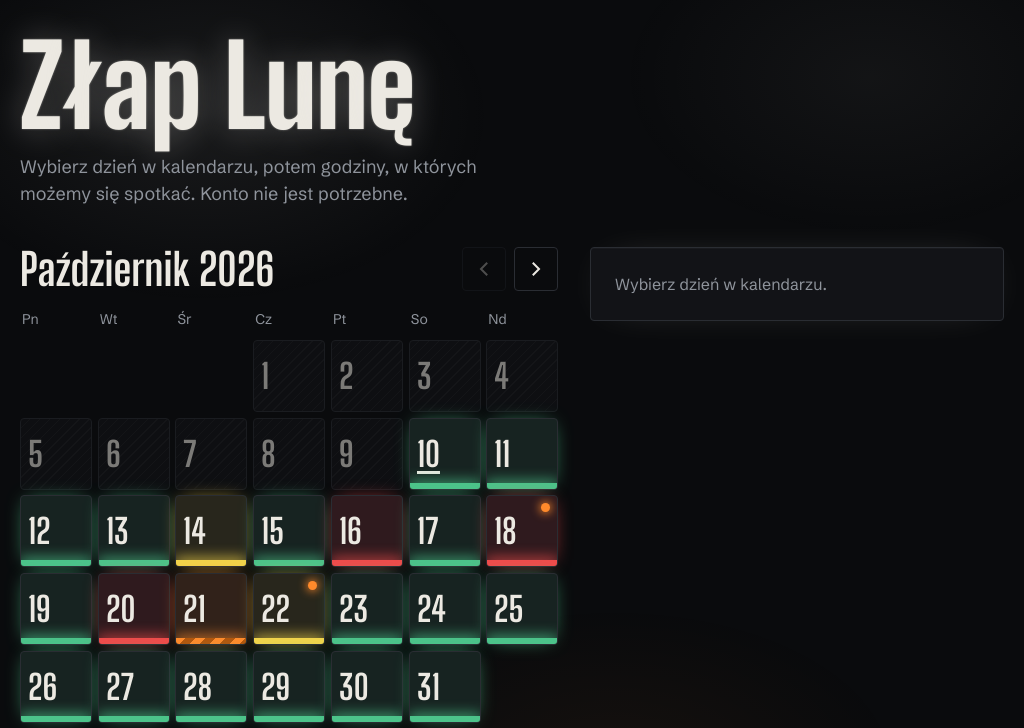
Test case: zamknięte dni › publicznie: dzień wygląda na zajęty, spotkania widać, reszta jest wyszarzona, bez formularza
The width and height of the screenshot is (1024, 728).
Click the button "18" at (522, 531), box 486,495 -> 558,567
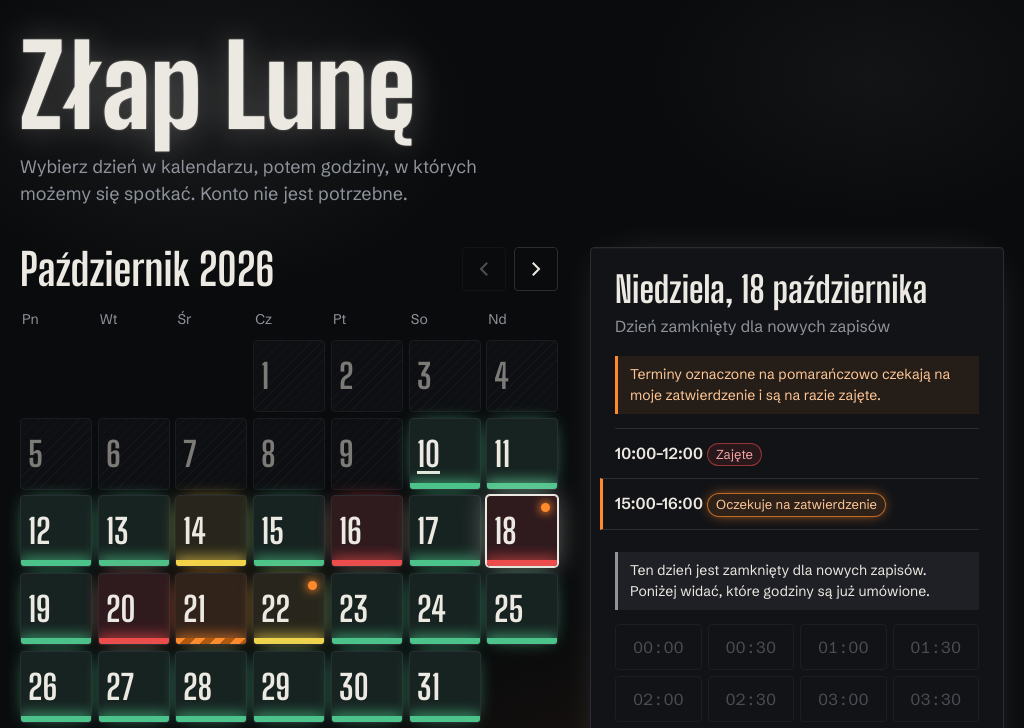
Expected: the text "zamknięty dla nowych zapisów. Poniżej widać" is shown, 630,561 -> 930,600
